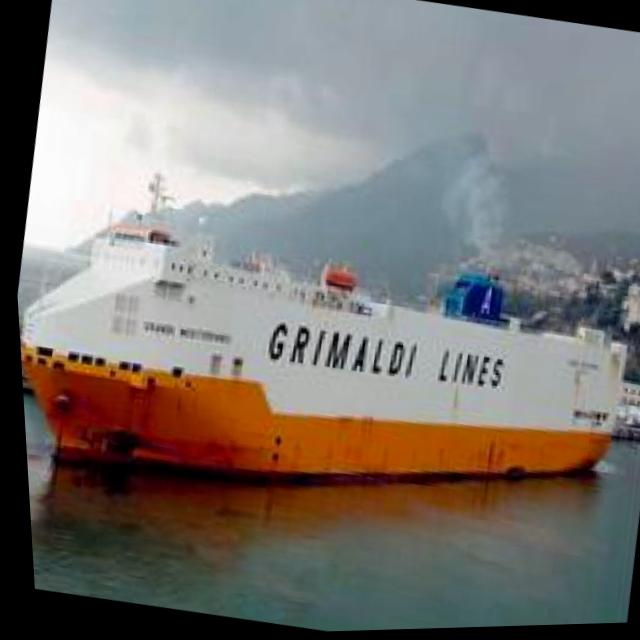ship2: (15, 173, 623, 489)
